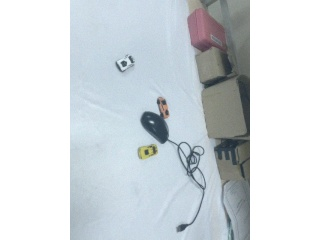box: (202, 75, 249, 139), (215, 138, 250, 181), (195, 47, 231, 85)
mouse: (140, 111, 169, 144)
toy_car: (116, 55, 135, 73), (138, 145, 158, 160), (157, 97, 170, 118)
